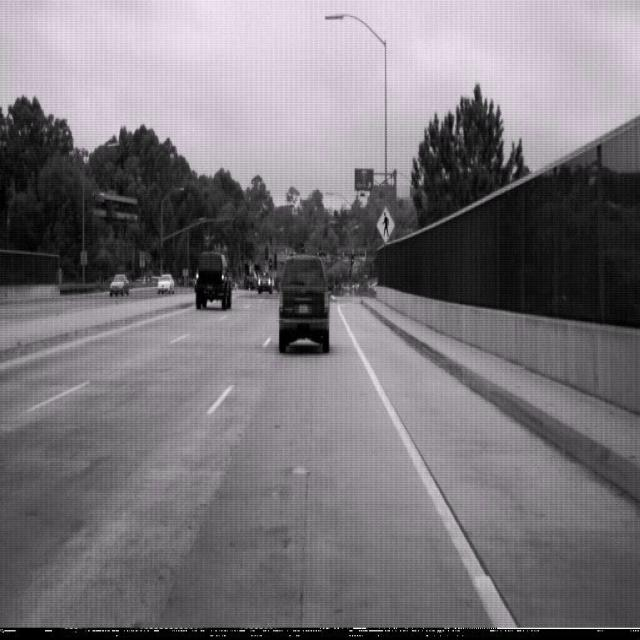pedestrianCrossing: (375, 202, 396, 245)
